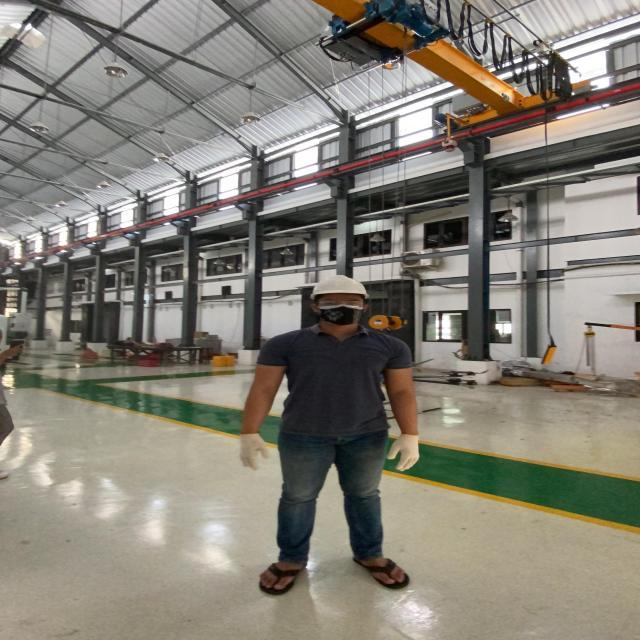glasses: (312, 298, 366, 310)
